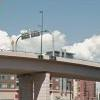Bridge: (4, 39, 96, 88)
